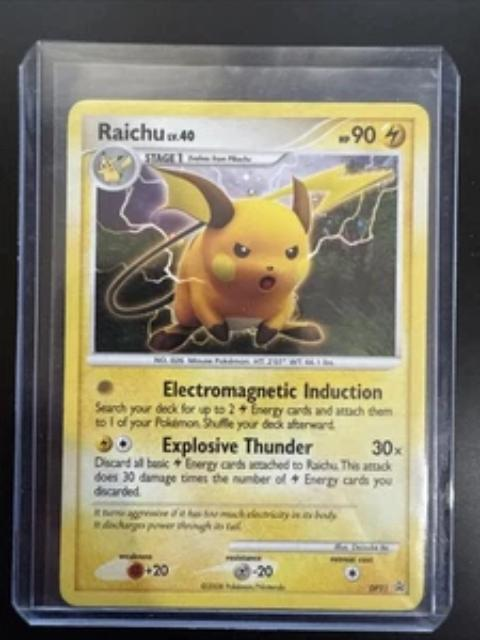Card: (56, 94, 435, 614)
Name: (93, 117, 166, 145)
